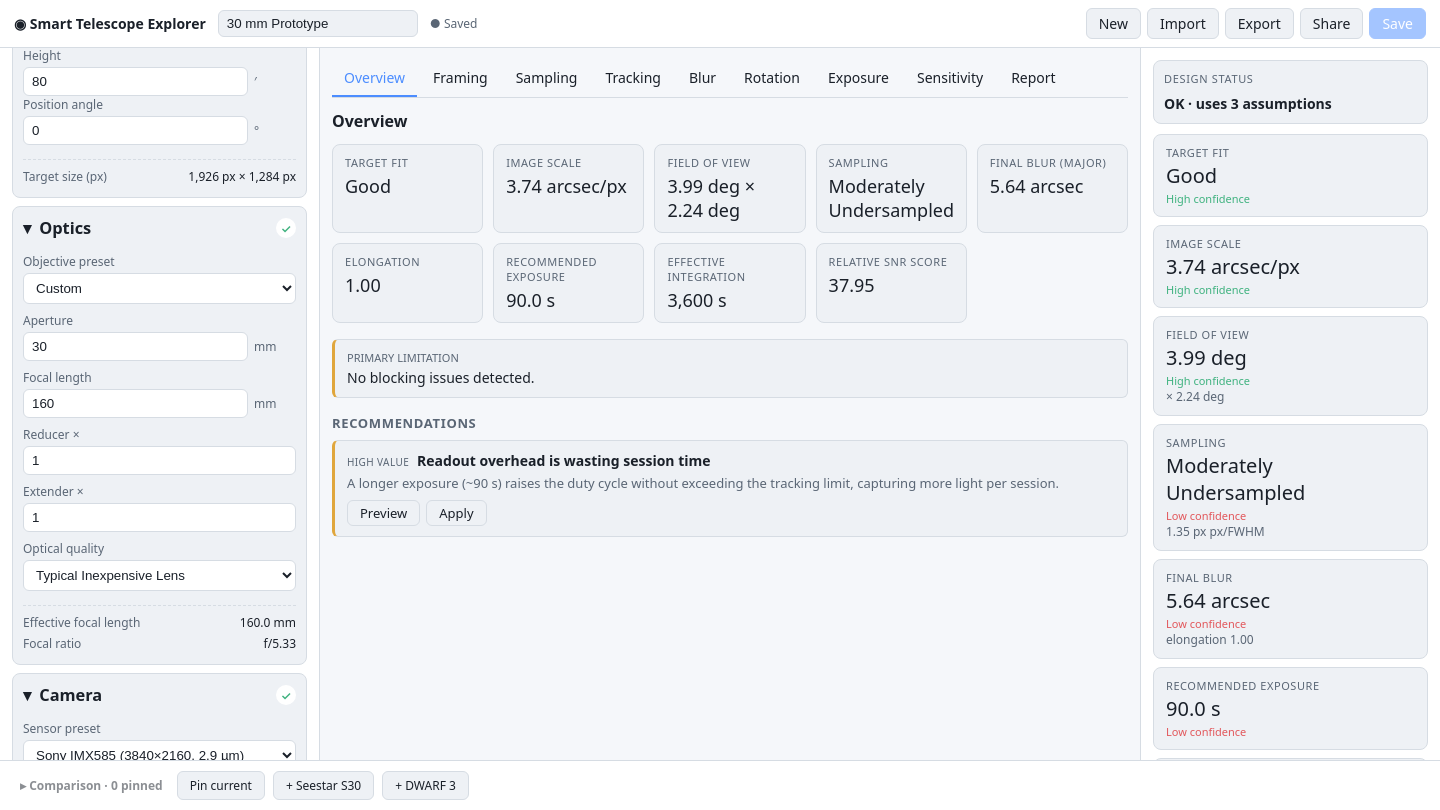
R1 gate: answer framing, image scale, and sampling (v0.9 §24) › recomputes results when the focal length changes (results derive from inputs)
(page scrolled)
Expected: the text "3.74 arcsec/px" below "OK" is shown, [1166,253,1300,280]
Replace the text in the number field labelled "Focal length mm" with "320". click: {"x": 136, "y": 404}
box: [23,389,248,418]
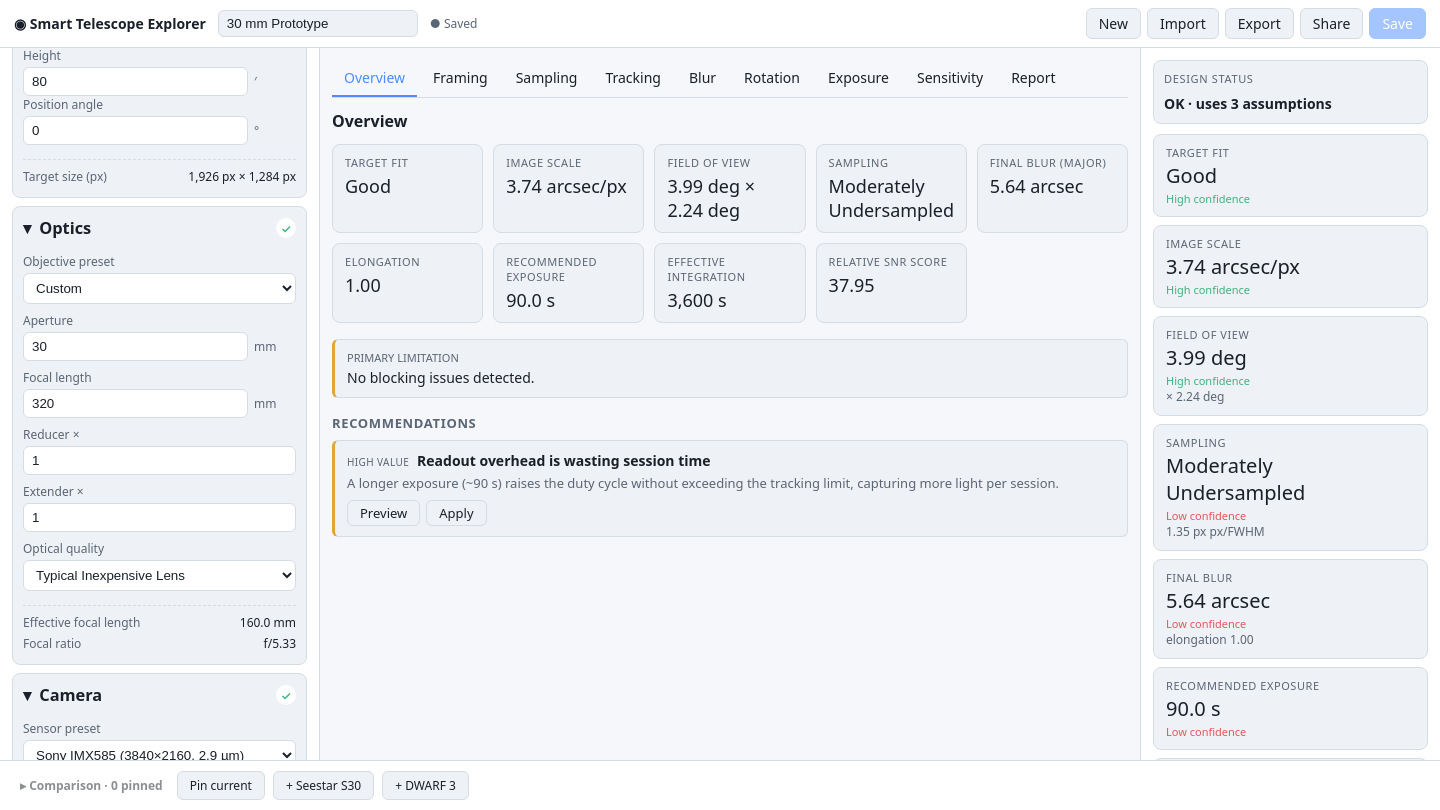
Leave the number field labelled "Focal length mm", box [23,389,248,418]
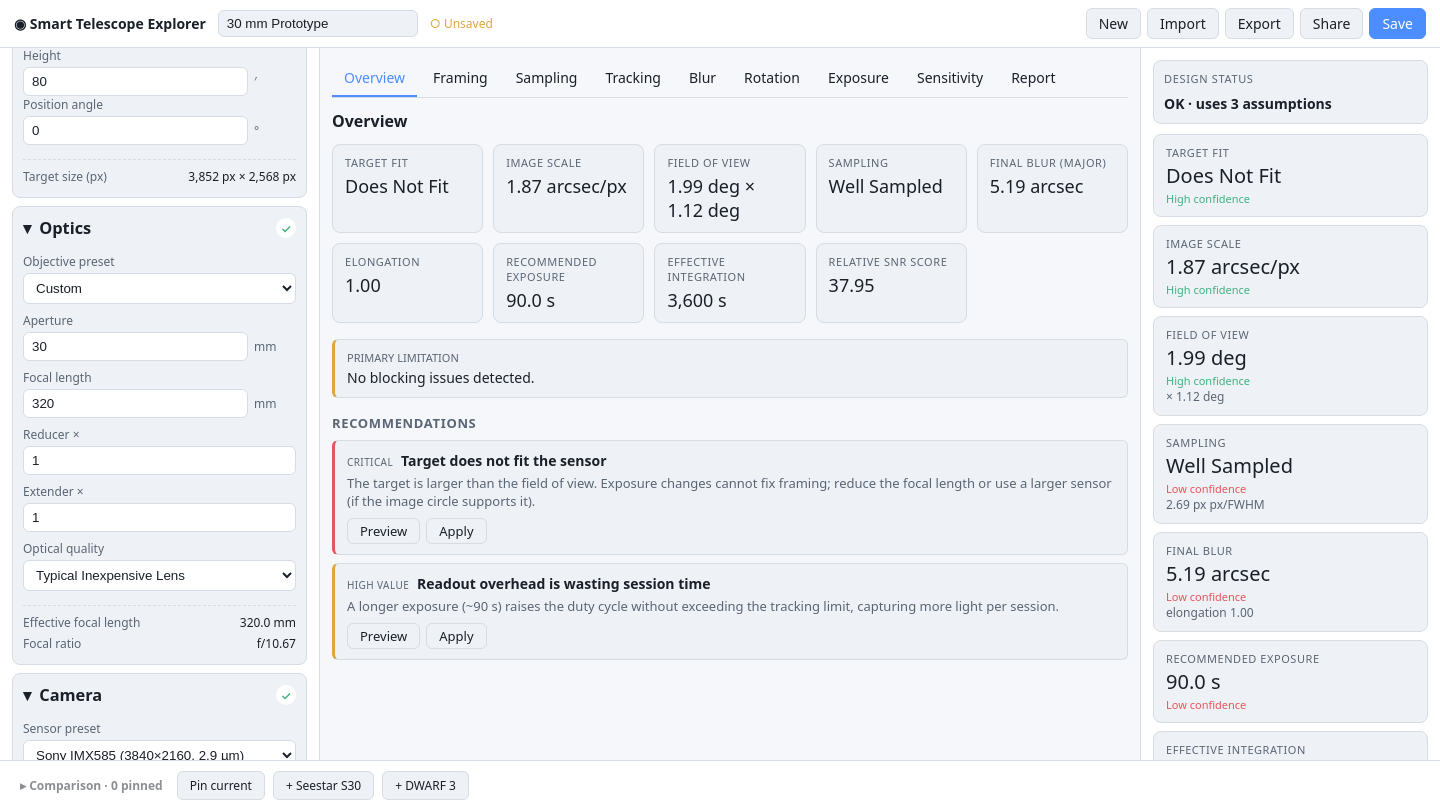
Expected: the text "1.87 arcsec/px" below "OK" is shown, [1166,253,1300,280]
